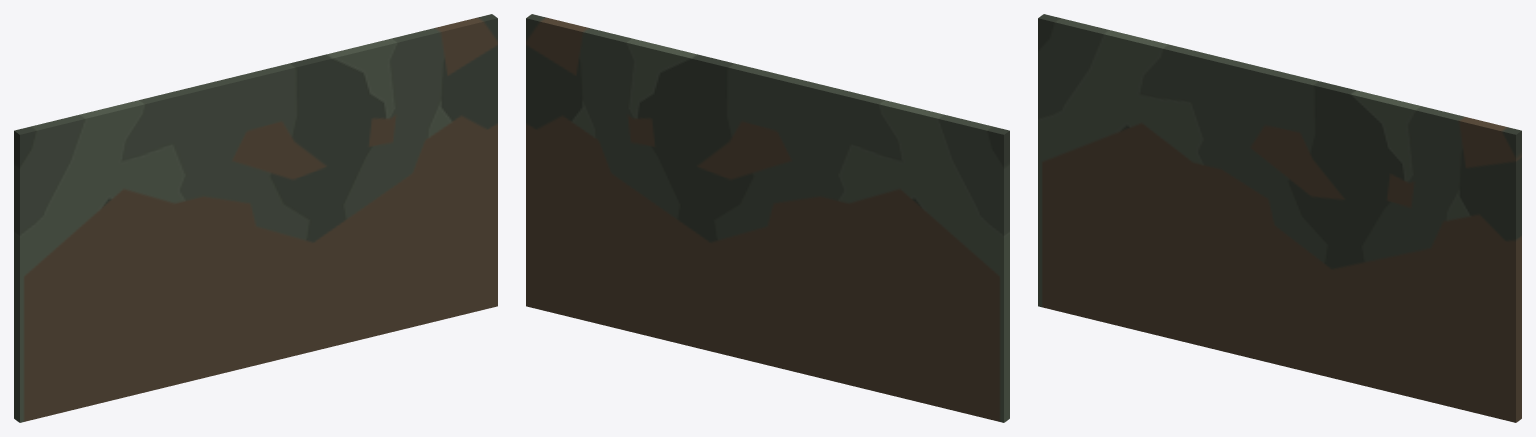
File: SM_Prop_Flag_01.fbx
The picture shows the model from 3 angles, left to right: view 1: azimuth 30°, elevation 25°; view 2: azimuth 150°, elevation 25°; view 3: azimuth 330°, elevation 25°; orthographic projection.
Parts seen in each view (by area): view 1: SM_Prop_Flag_01; view 2: SM_Prop_Flag_01; view 3: SM_Prop_Flag_01.
Part boxes in pixels (left/top/right/bottom): SM_Prop_Flag_01: left=14, top=14, right=497, bottom=422; SM_Prop_Flag_01: left=526, top=14, right=1009, bottom=422; SM_Prop_Flag_01: left=1038, top=14, right=1521, bottom=422.
Size of the model in its own units: 166 by 95.49 by 3.49.
